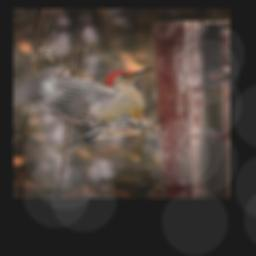Woodpecker: (15, 65, 154, 148)
